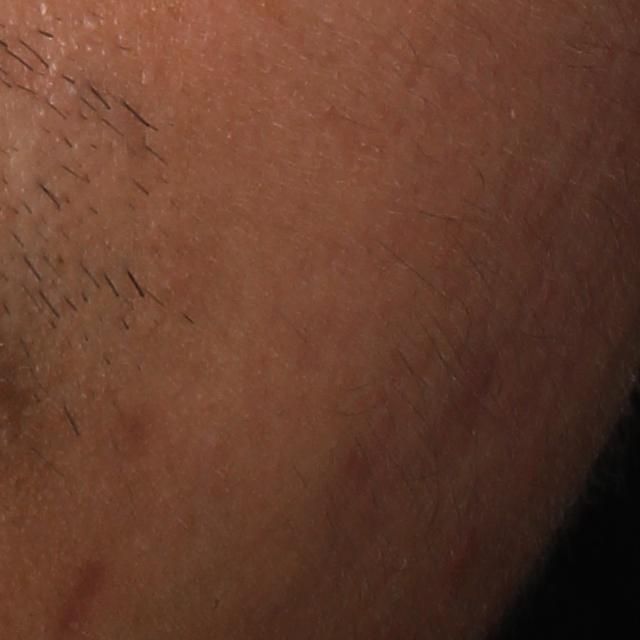papule: (444, 534, 479, 579)
